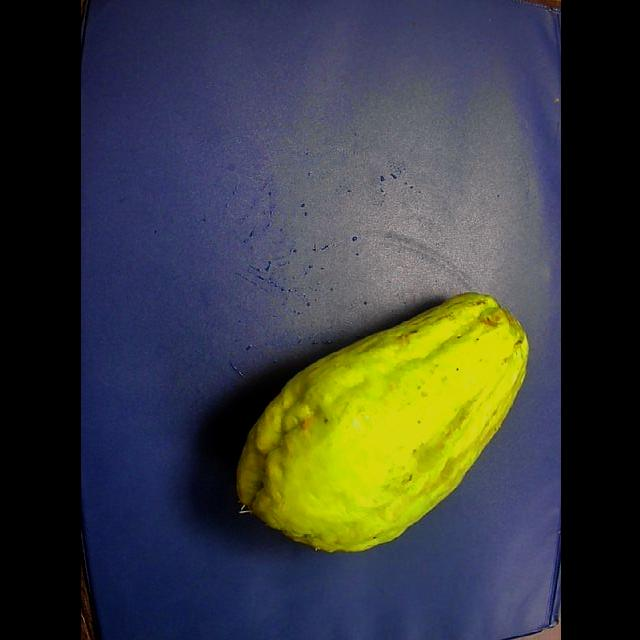chayote: (236, 292, 528, 551)
